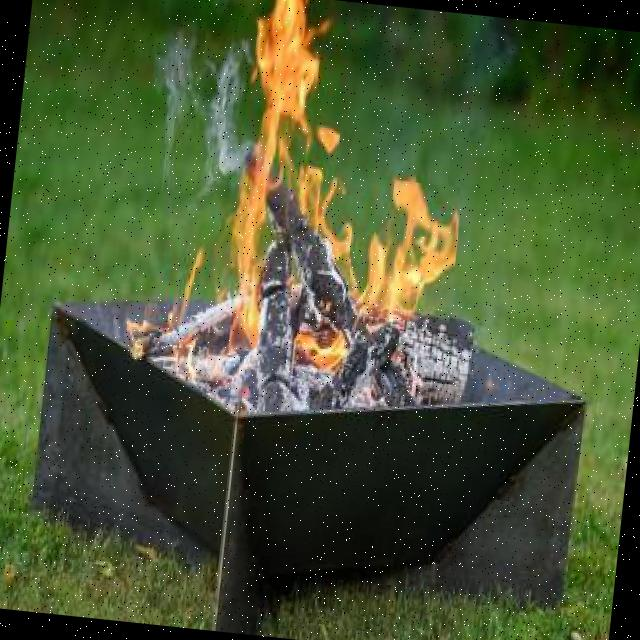fire: (198, 0, 330, 356), (344, 176, 462, 324)
